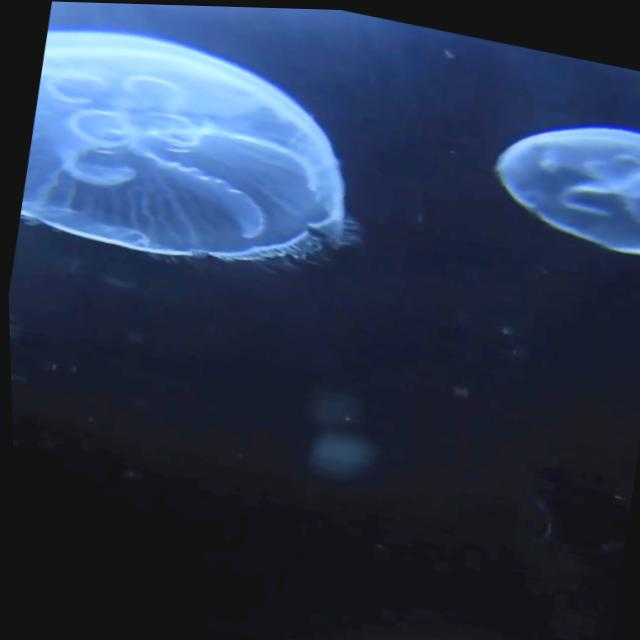Moon-jellyfish: (18, 26, 348, 260), (494, 121, 640, 251)
